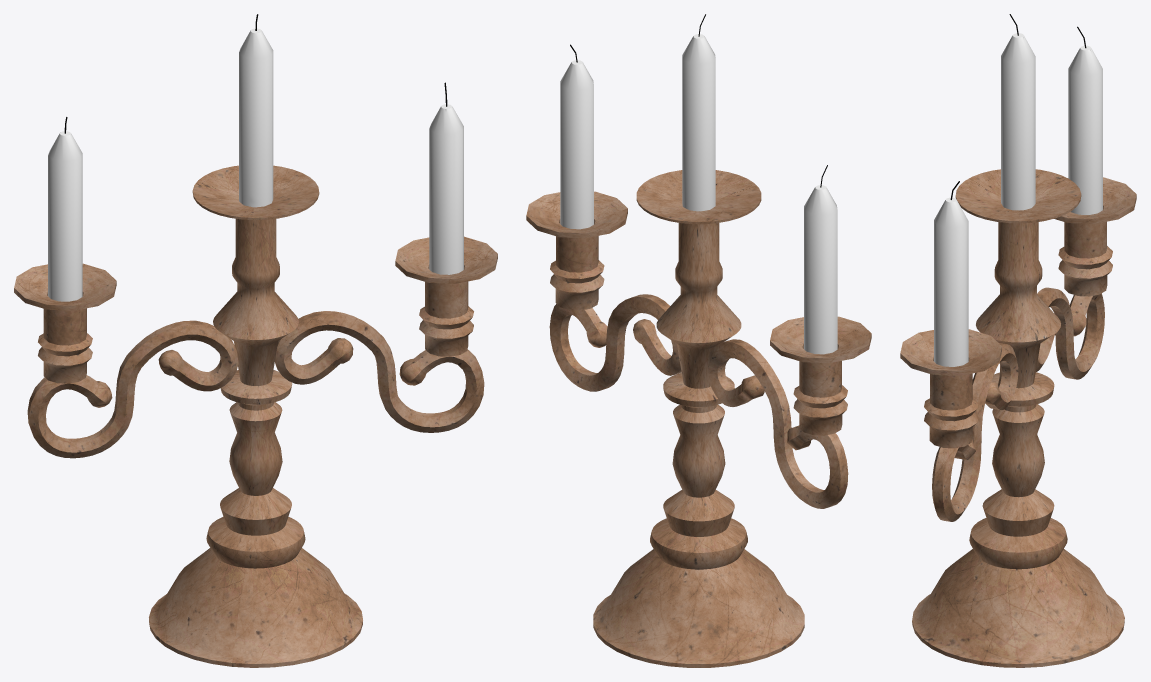
Rendered from candlestick2.fbx.
3 renders of one model, left to right at view 1: azimuth 30°, elevation 25°; view 2: azimuth 150°, elevation 25°; view 3: azimuth 270°, elevation 25°, orthographic.
Visible parts, largest first — view 1: candlestick2; view 2: candlestick2; view 3: candlestick2.
Part boxes in pixels (left/top/right/bottom): candlestick2: left=14, top=14, right=497, bottom=667; candlestick2: left=526, top=14, right=871, bottom=667; candlestick2: left=900, top=14, right=1136, bottom=667.
Size of the model in its own units: 133 by 193 by 68.01.
